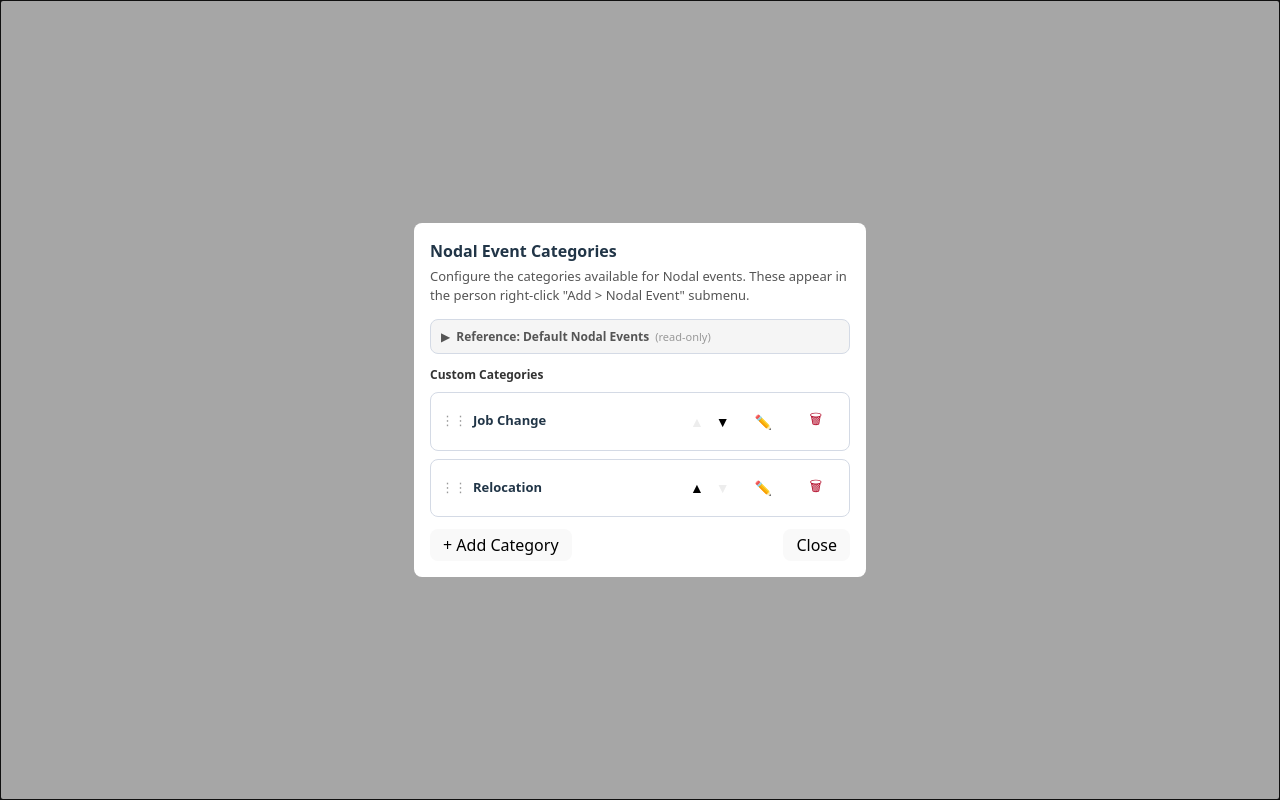
Test: NodalCategorySettingsModal — names (settings-07, settings-08) › refuses a name another custom category has, in any letter case
The width and height of the screenshot is (1280, 800).
Click the button "+ Add Category" at [501, 545], box [430, 529, 572, 561]
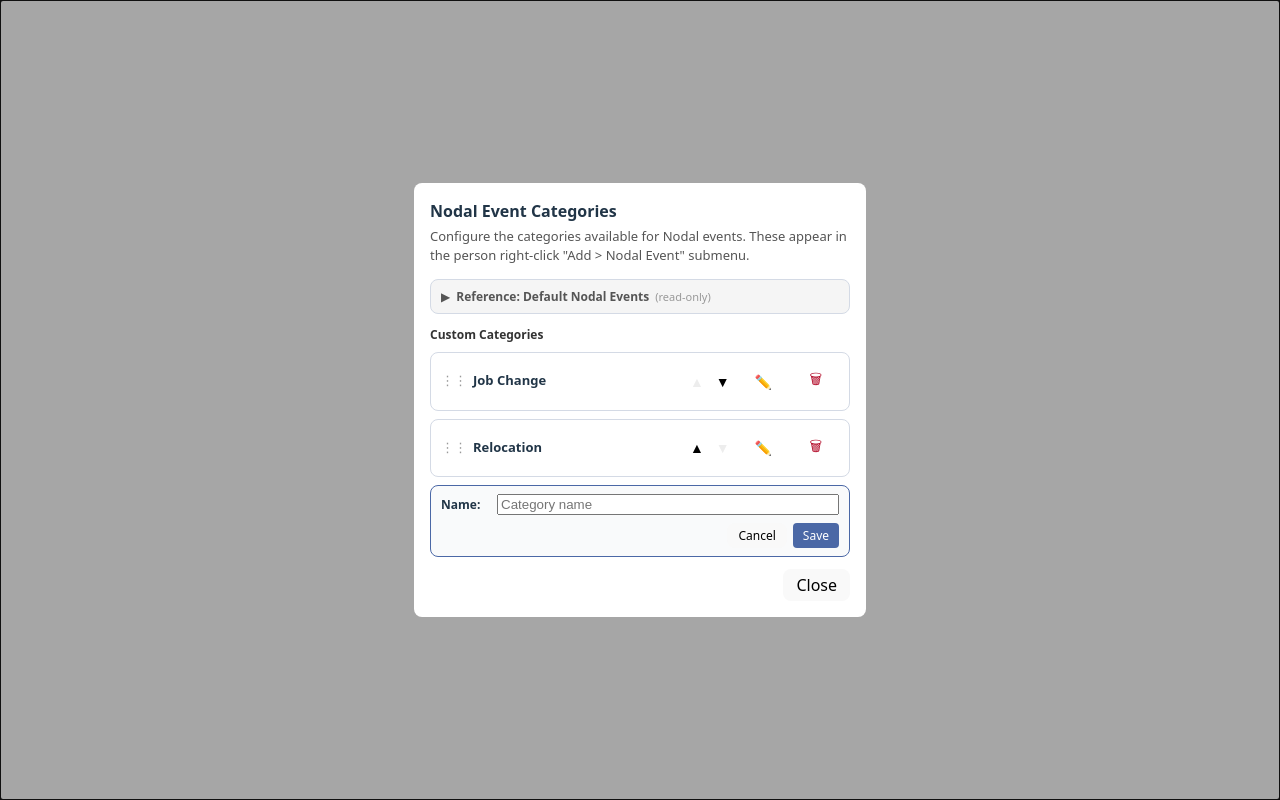
Type "RELOCATION" into the field labelled "Category name" at [668, 505], box [497, 494, 839, 515]
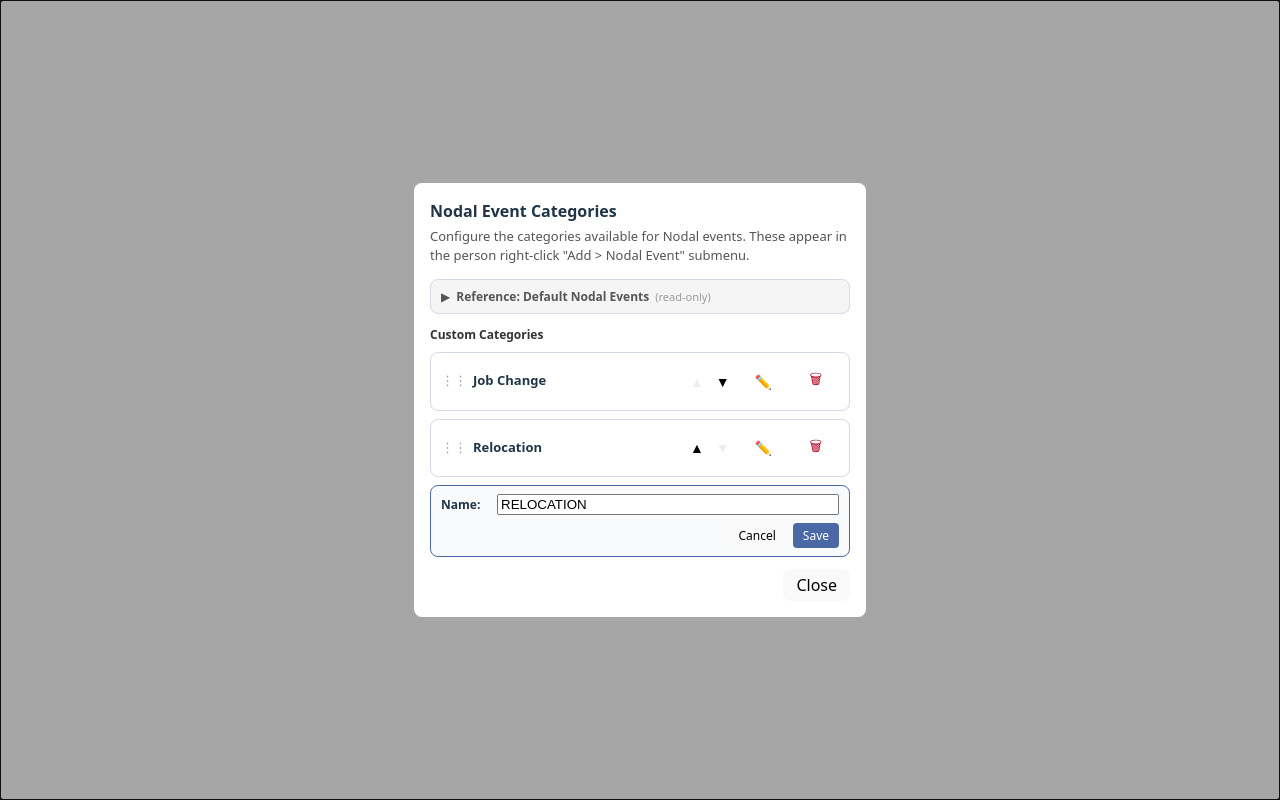
Click the button "Save" at [816, 536], box [793, 523, 839, 548]
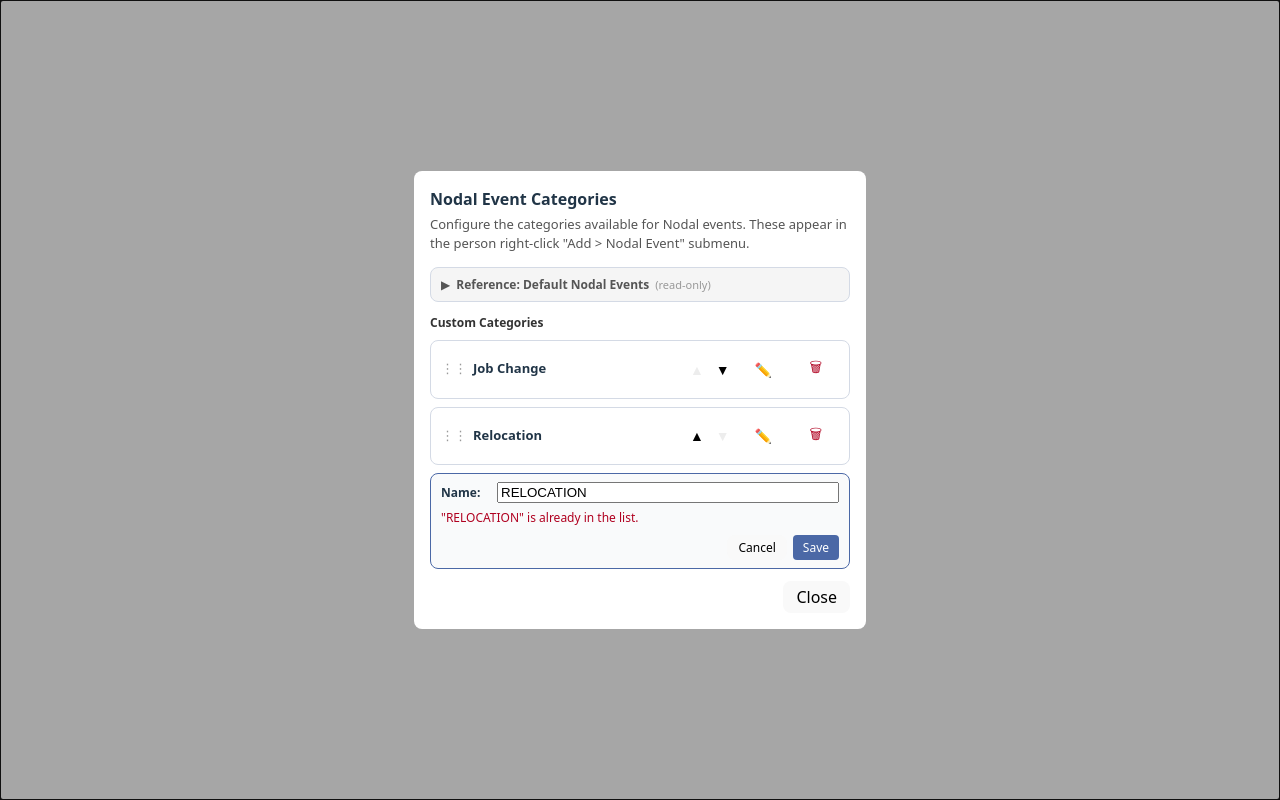
Expected: the message shows "already in the list", [441, 509, 638, 526]
